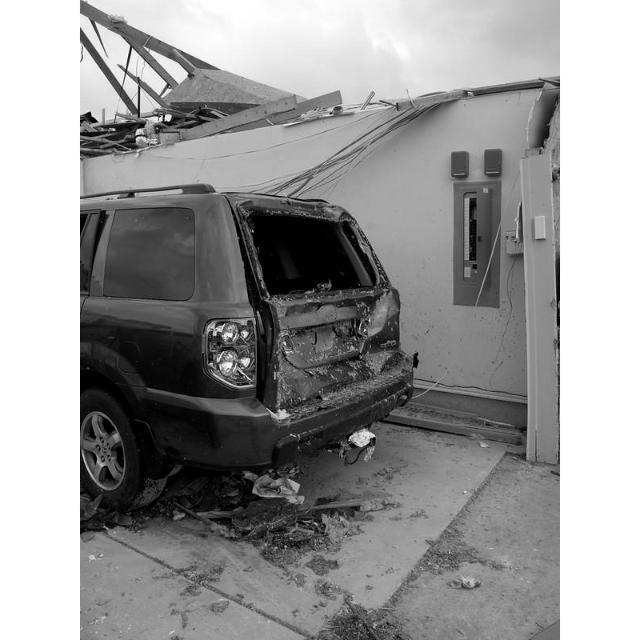Rear-windscreen-Damage: (246, 202, 391, 314)
boot-dent: (267, 326, 396, 406)
